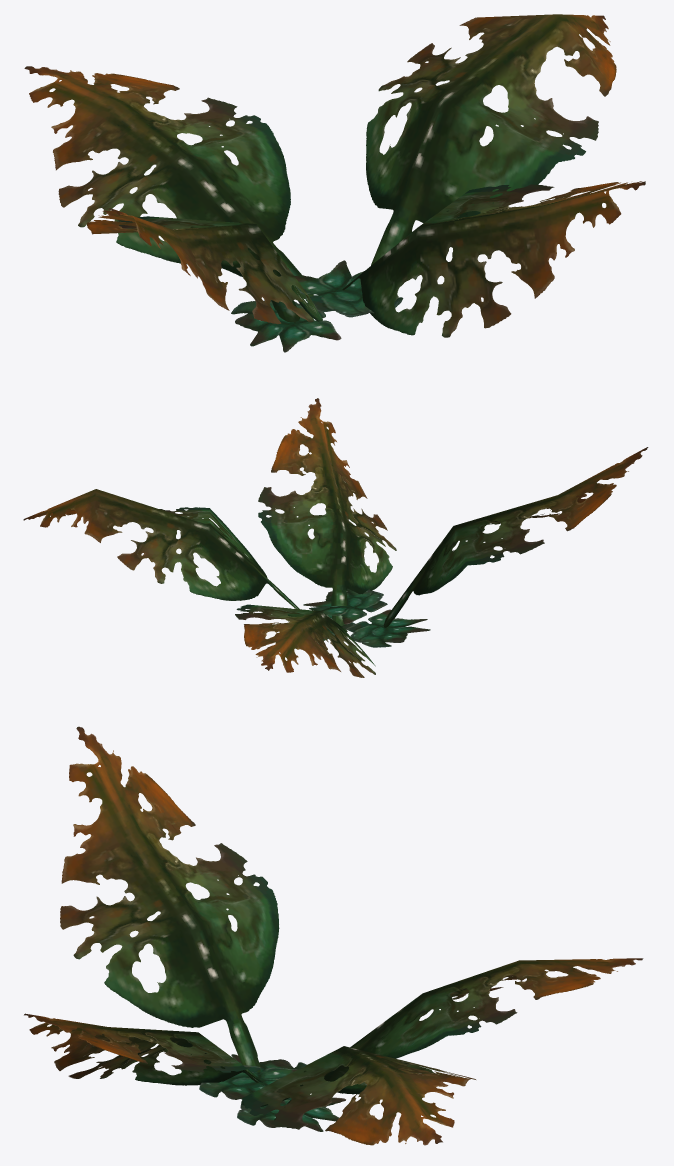
File: stemple_fern_blank_03.fbx
The picture shows the model from 3 angles, top to bottom: view 1: azimuth 30°, elevation 25°; view 2: azimuth 150°, elevation 25°; view 3: azimuth 270°, elevation 25°; orthographic projection. The views are drawn at different scales.
Visible parts, largest first — view 1: sunken_tileset/sunken_plants01_mat; view 2: sunken_tileset/sunken_plants01_mat; view 3: sunken_tileset/sunken_plants01_mat.
Boxes of the visible parts, x1,y1,x2,y2 form: sunken_tileset/sunken_plants01_mat: [24, 14, 645, 352]; sunken_tileset/sunken_plants01_mat: [23, 398, 648, 677]; sunken_tileset/sunken_plants01_mat: [24, 726, 643, 1145].
Size of the model in its own units: 3.41 by 1.31 by 2.97.
